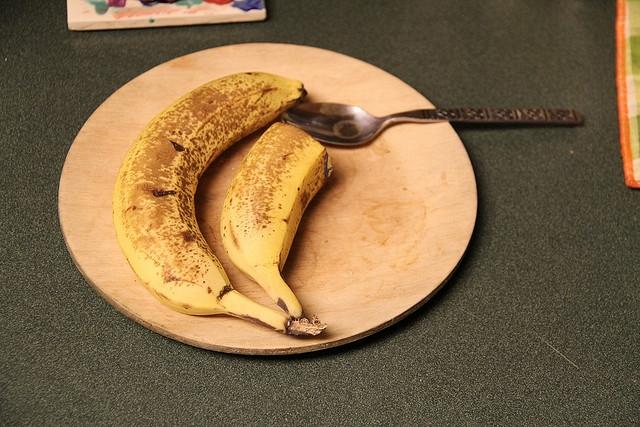banana: (111, 72, 308, 335), (220, 122, 331, 321)
